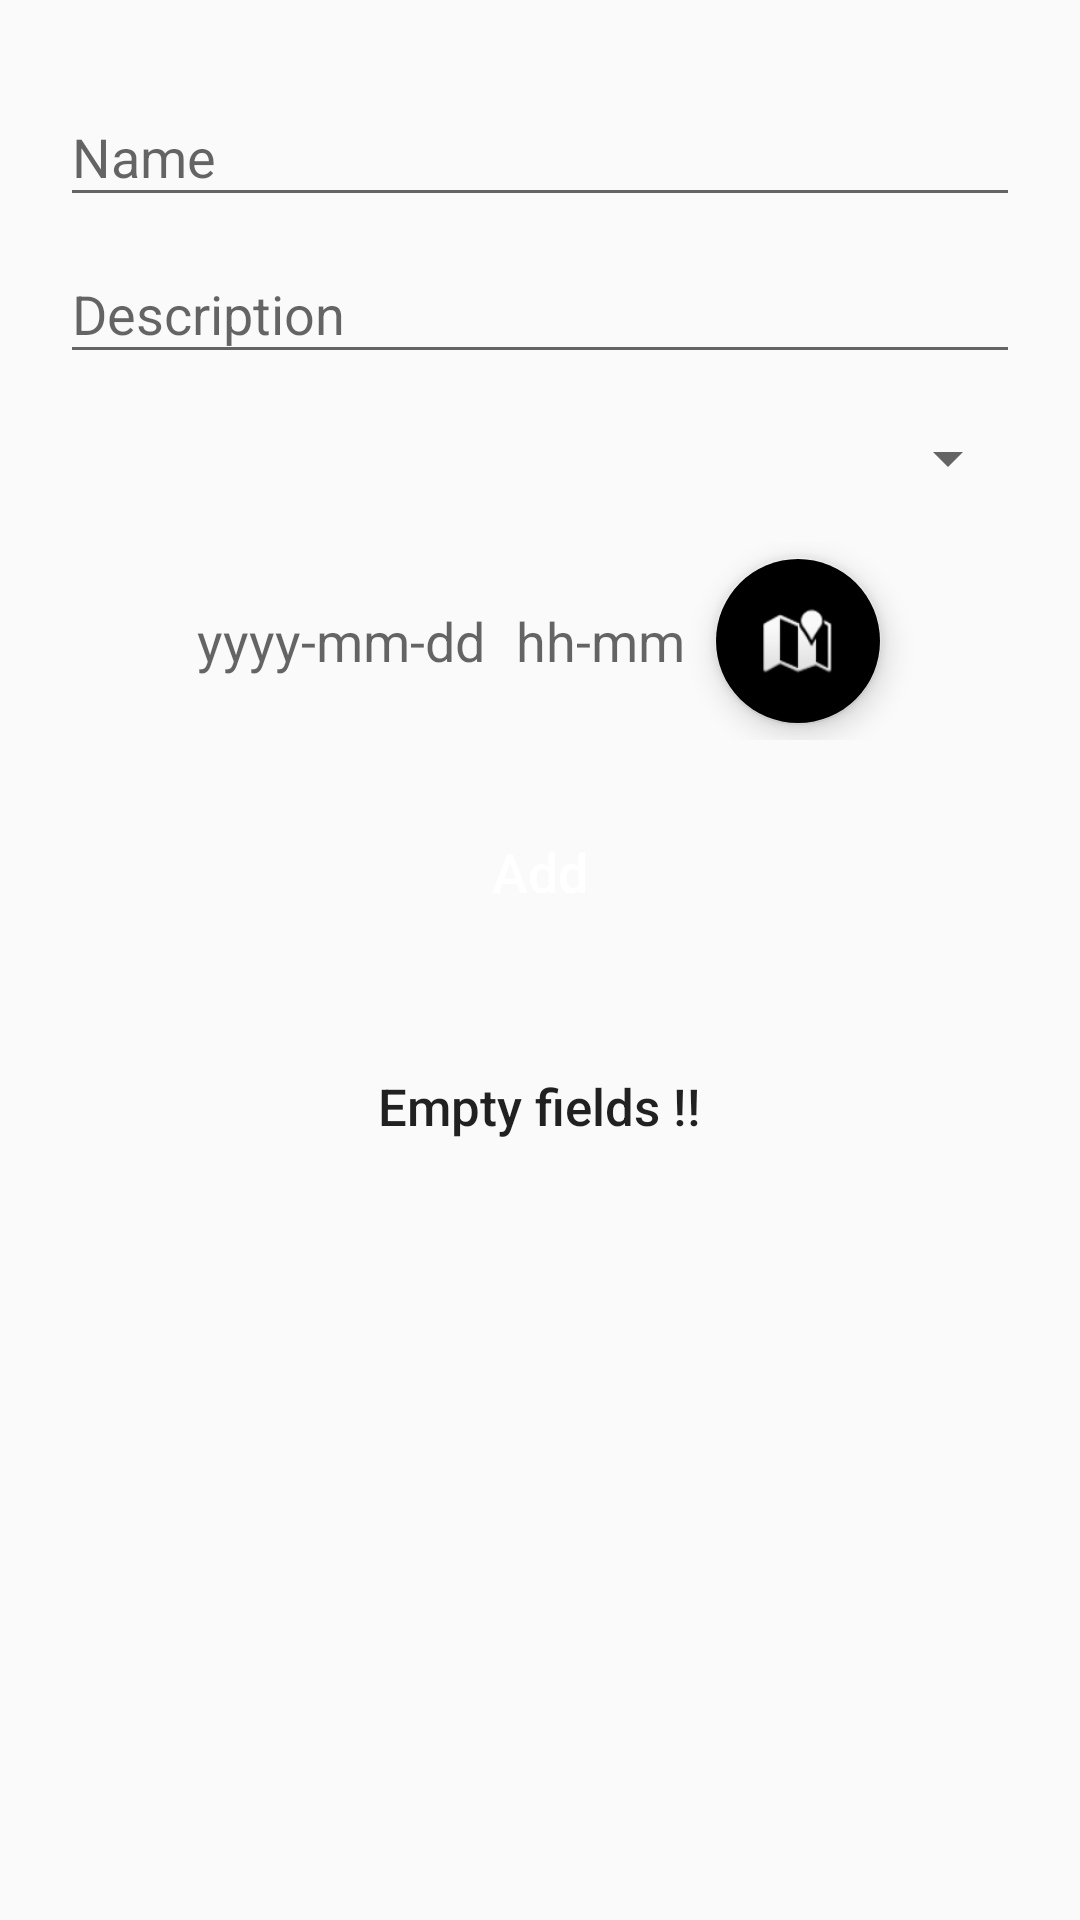

Icon bounding boxes for this 1080x1920 phone screenshot, format (x1, y1, x2, y2):
map: (716, 559, 882, 725)
